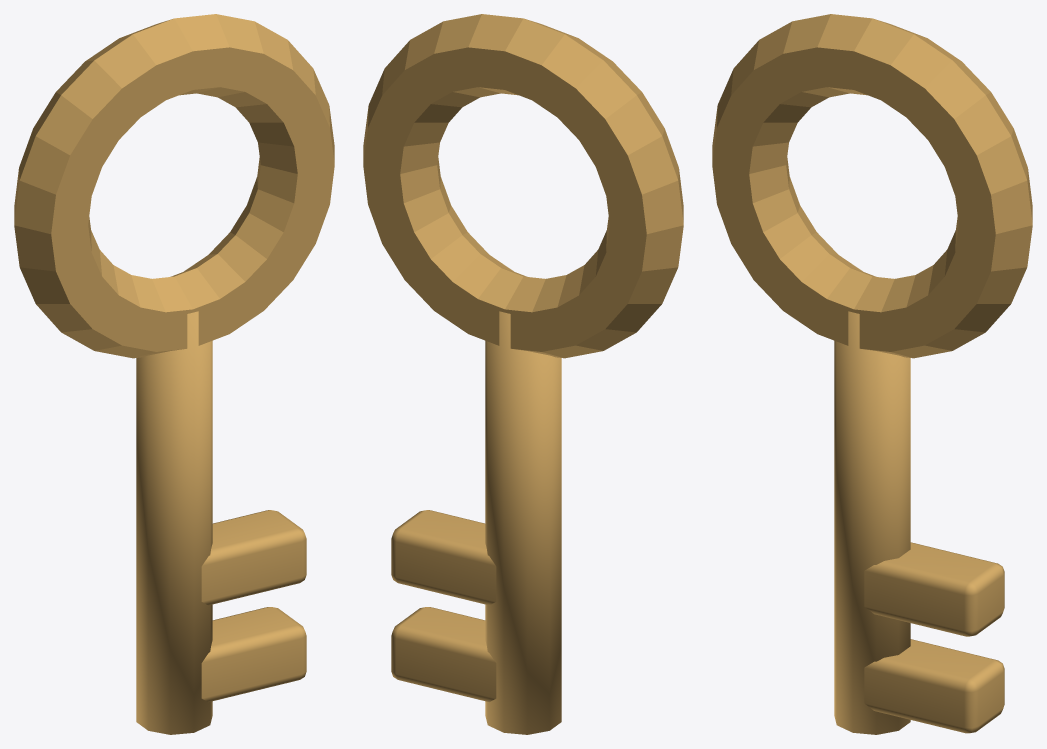
File: relic-masterKey.glb
The picture shows the model from 3 angles, left to right: view 1: azimuth 30°, elevation 25°; view 2: azimuth 150°, elevation 25°; view 3: azimuth 330°, elevation 25°; orthographic projection.
Visible parts, largest first — view 1: relic-masterKey / Brass | machined champagne; view 2: relic-masterKey / Brass | machined champagne; view 3: relic-masterKey / Brass | machined champagne.
Boxes of the visible parts, bbox=[...] form: relic-masterKey / Brass | machined champagne: bbox=[14, 14, 334, 734]; relic-masterKey / Brass | machined champagne: bbox=[363, 14, 683, 734]; relic-masterKey / Brass | machined champagne: bbox=[712, 14, 1032, 734].
Size of the model in its own units: 1.04 by 2.17 by 0.22.
